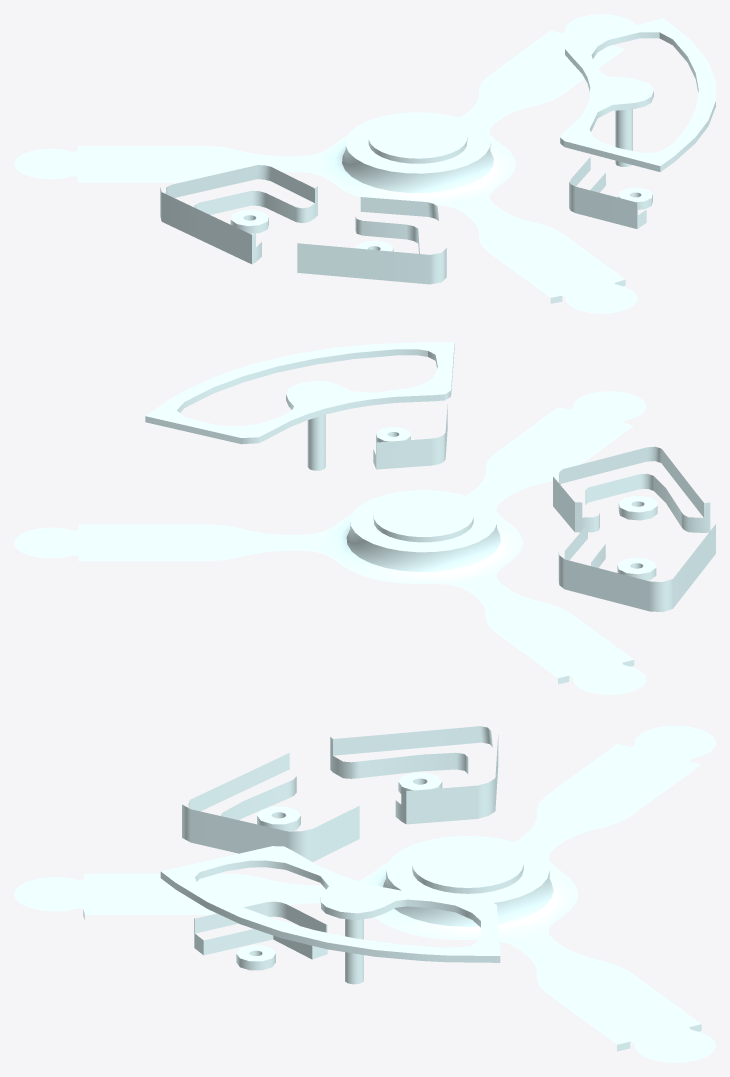
Rendered from GrigioChiaro_P0.glb.
3 views of the same model, one above another, from view 1: azimuth 30°, elevation 25°; view 2: azimuth 150°, elevation 25°; view 3: azimuth 270°, elevation 25° (orthographic). The views are drawn at different scales.
Visible parts, largest first — view 1: grigio_chiaro_P0_g; view 2: grigio_chiaro_P0_g; view 3: grigio_chiaro_P0_g.
Boxes of the visible parts, x1,y1,x2,y2 form: grigio_chiaro_P0_g: [14, 14, 715, 313]; grigio_chiaro_P0_g: [14, 342, 715, 694]; grigio_chiaro_P0_g: [14, 725, 715, 1062].
Size of the model in its own units: 26.48 by 3.22 by 23.3.
